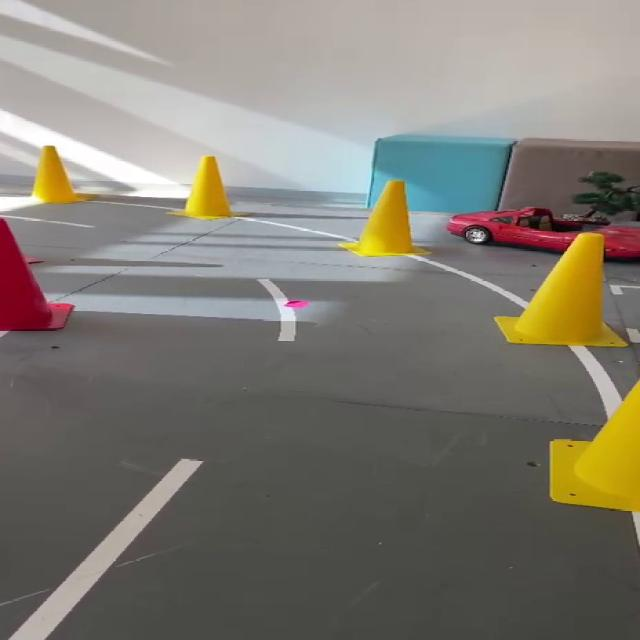Cone-red: (0, 218, 73, 330)
Cones-yellow: (495, 233, 626, 347), (552, 381, 639, 512), (552, 382, 639, 512), (341, 180, 426, 256), (174, 156, 233, 218), (32, 146, 92, 203)
